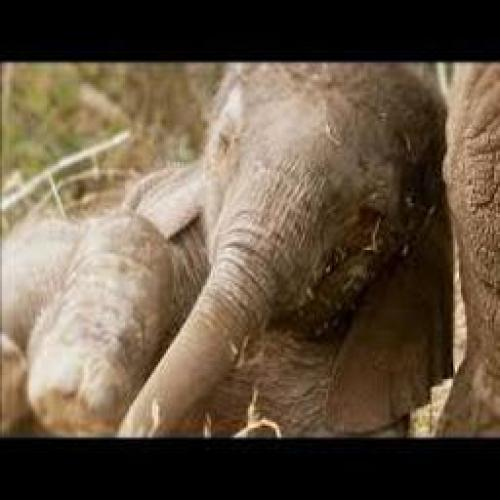african_elephant-endangered: (0, 66, 443, 431)
